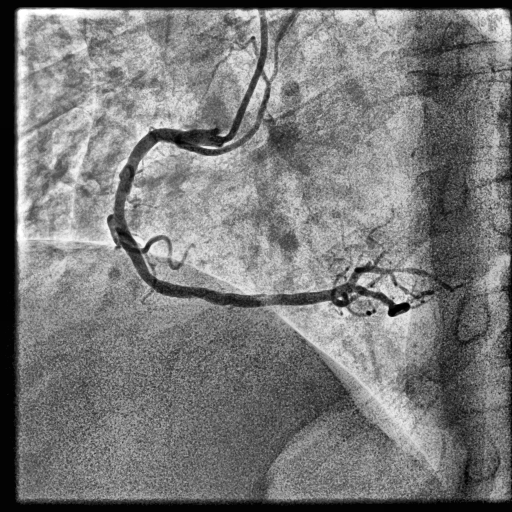pborca: (348, 267, 463, 292)
pda: (352, 285, 409, 317)
rca: (114, 128, 349, 307)
